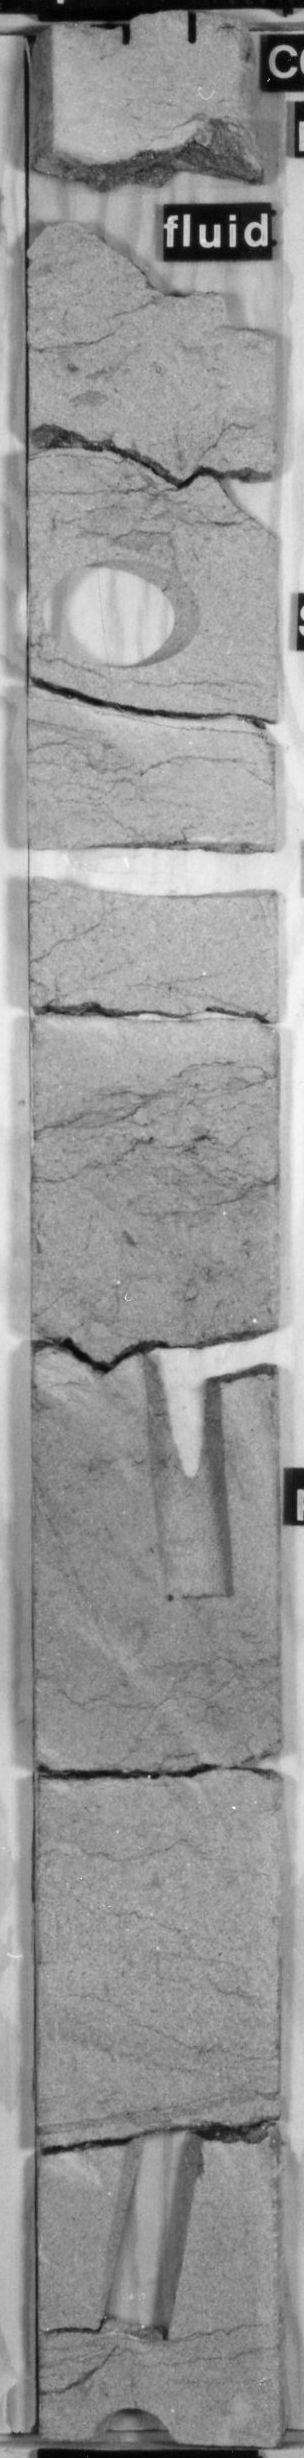hplug: (25, 818, 277, 911), (85, 2395, 179, 2441)
scal: (34, 552, 219, 688)
vplug: (133, 1342, 248, 1615), (96, 2132, 213, 2351), (116, 9, 205, 64)
